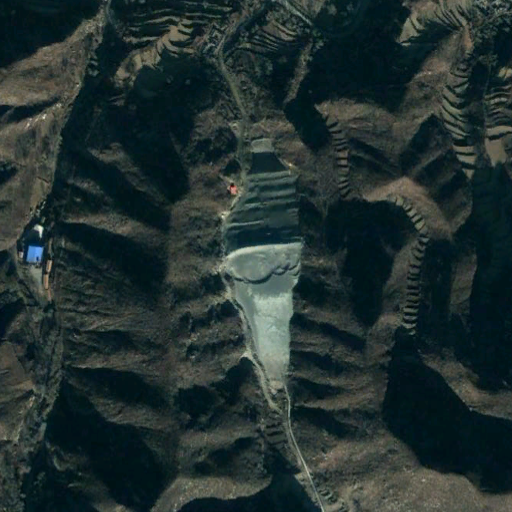tp: (222, 153, 306, 392)
